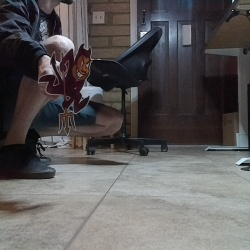sparky: (37, 42, 93, 136)
